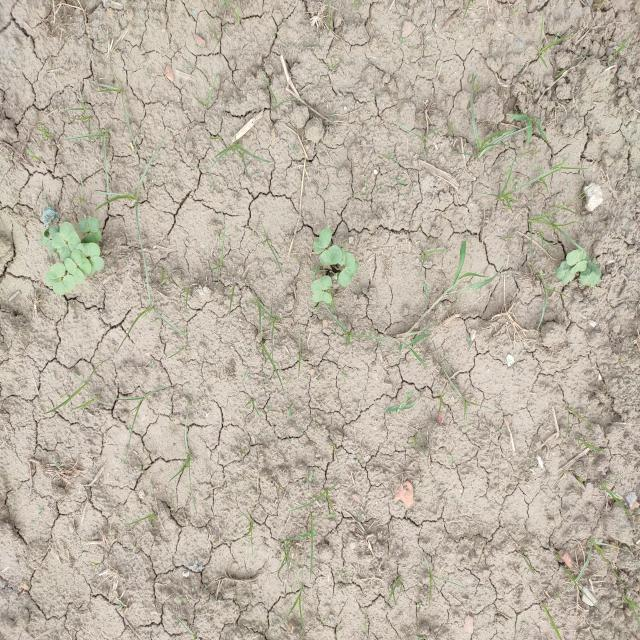seedling: (60, 222, 81, 252), (64, 258, 85, 284), (338, 261, 358, 287), (313, 227, 332, 254), (52, 233, 70, 261), (45, 262, 66, 286), (71, 249, 91, 274), (319, 245, 342, 266), (53, 275, 76, 295), (311, 275, 331, 294), (76, 243, 100, 258), (566, 248, 586, 266), (338, 248, 355, 268), (78, 217, 99, 233), (40, 236, 57, 253), (88, 256, 104, 274), (560, 261, 575, 280), (82, 230, 102, 243), (555, 267, 569, 285), (313, 291, 332, 303), (570, 261, 587, 274), (43, 226, 59, 239), (591, 267, 601, 287), (579, 267, 590, 285), (584, 271, 597, 286), (588, 259, 596, 272)
